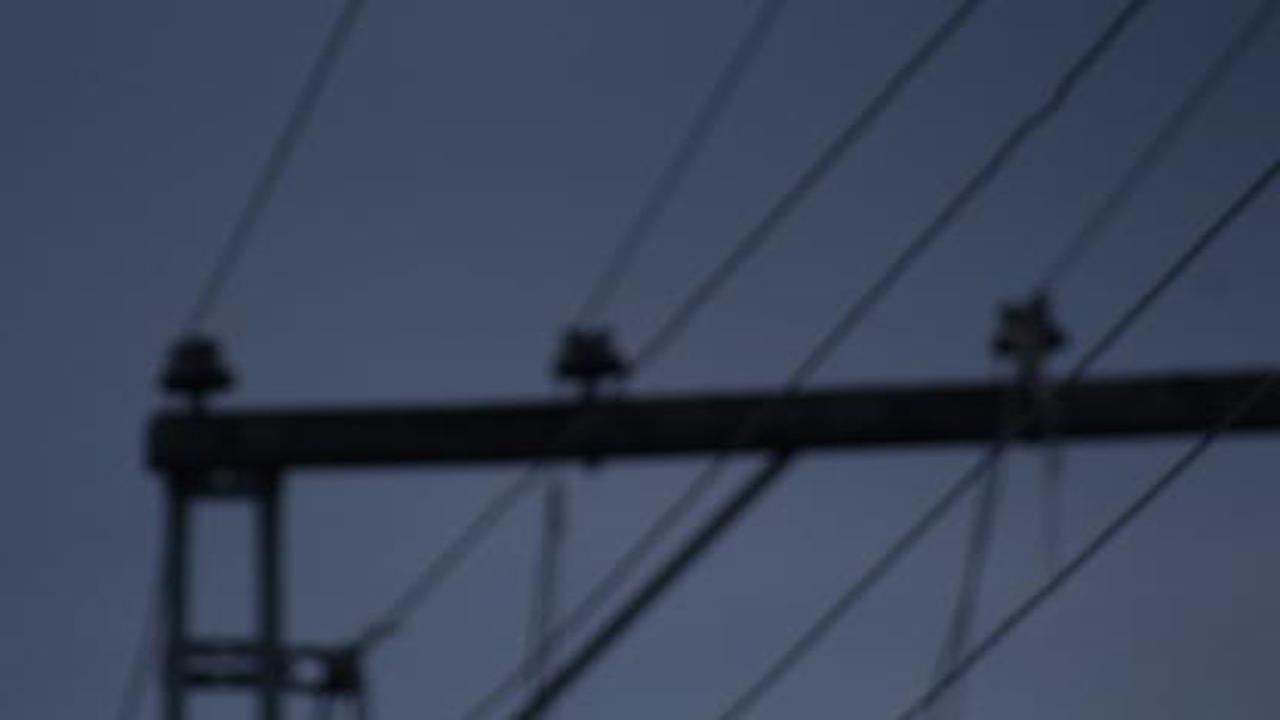insulator_pin: (541, 316, 639, 392), (987, 292, 1070, 367), (153, 330, 241, 400)
